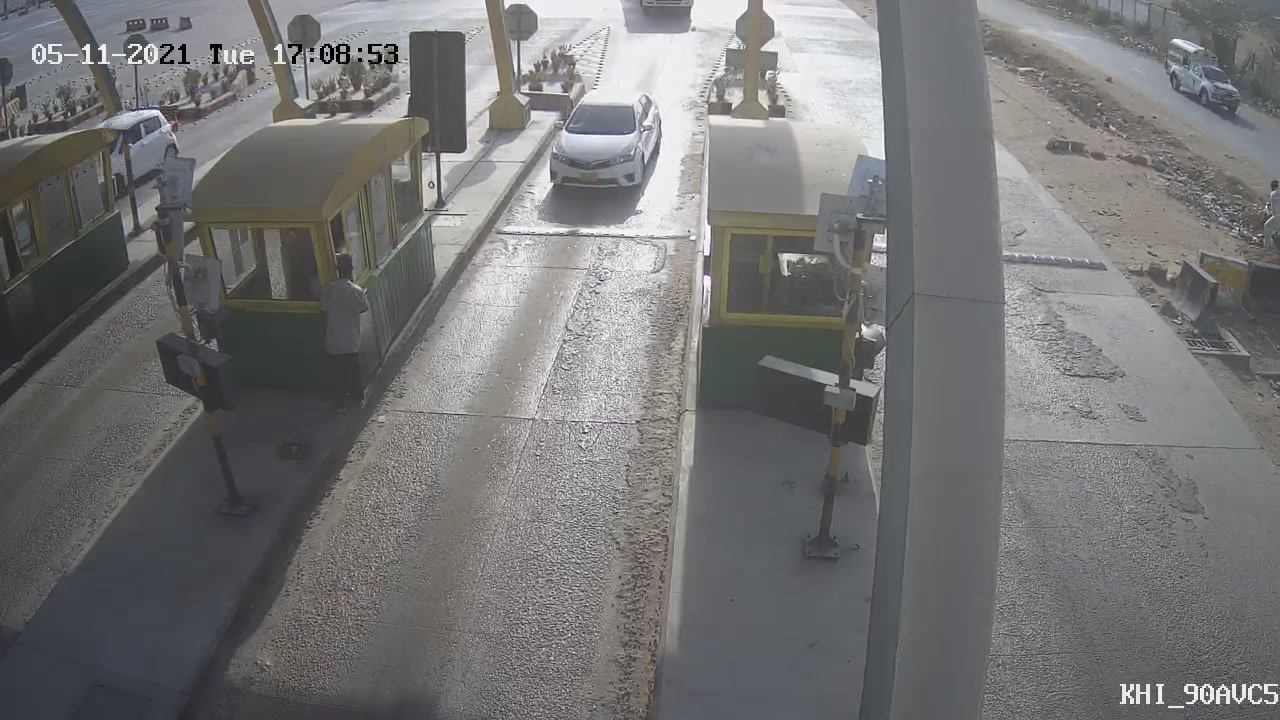F1: (525, 73, 679, 211)
